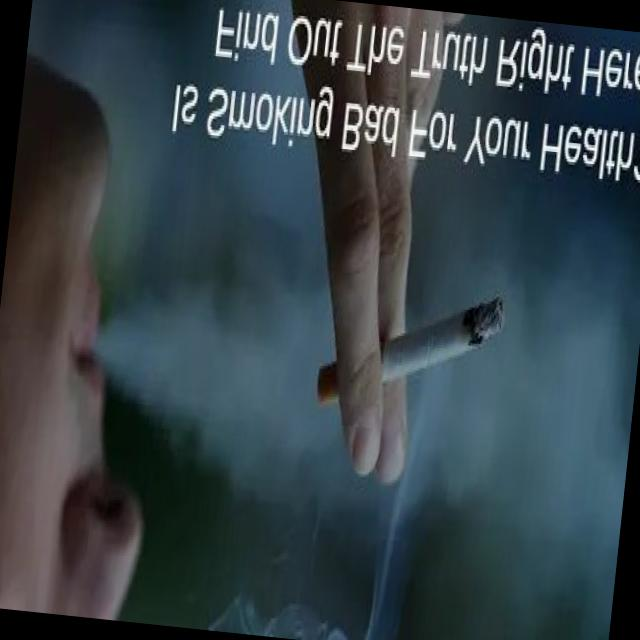cigarette: (312, 276, 513, 430)
